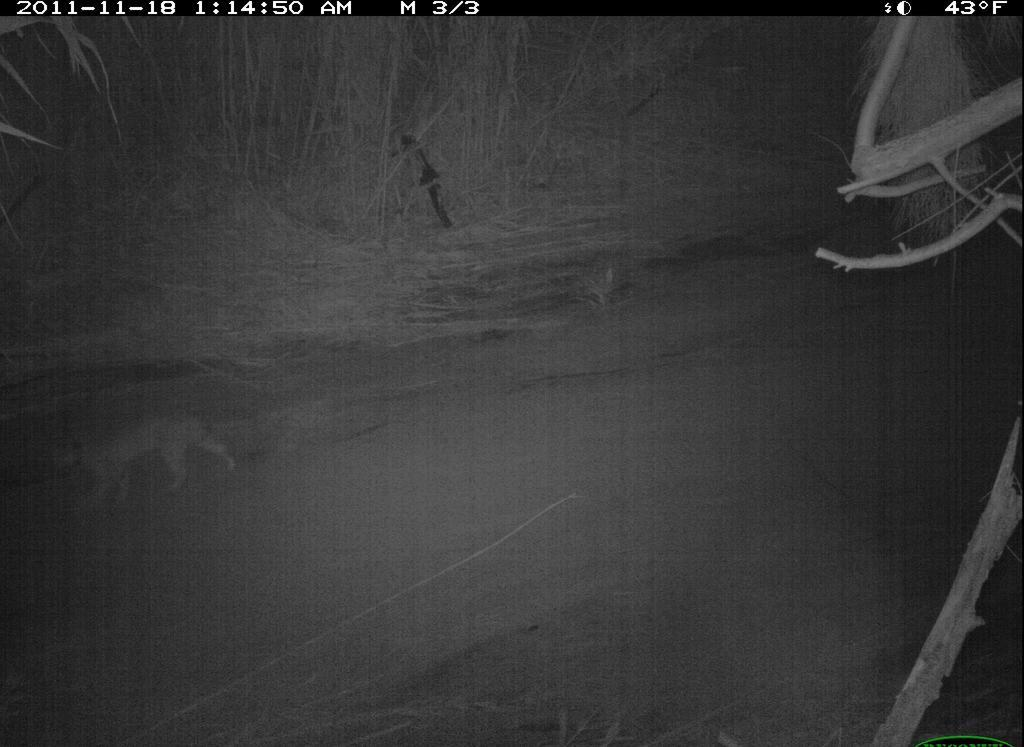bobcat: (40, 401, 242, 523)
